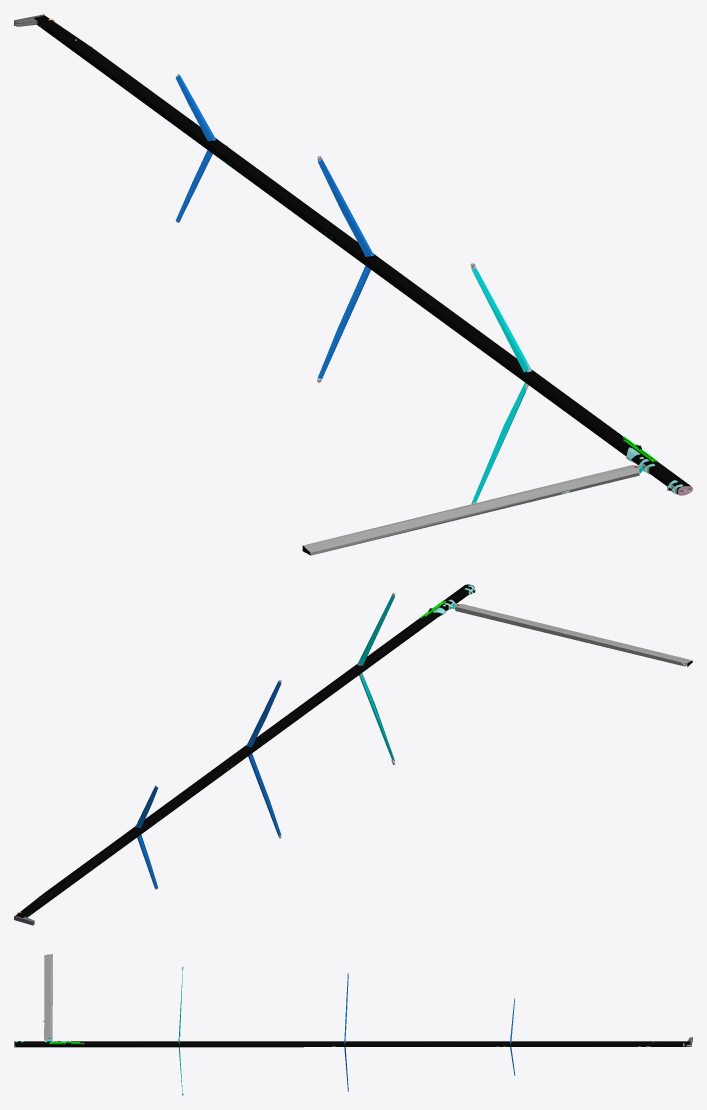
3 renders of one model, top to bottom at view 1: azimuth 30°, elevation 25°; view 2: azimuth 150°, elevation 25°; view 3: azimuth 270°, elevation 25°, orthographic. The views are drawn at different scales.
Visible parts, largest first — view 1: c0_0_0, c105_105_105, c1_62_241, c0_255_255; view 2: c0_0_0, c105_105_105, c1_62_241, c0_255_255; view 3: c0_0_0, c105_105_105, c1_62_241.
Part boxes in pixels (x1,y1,x2,y2): c0_0_0: (34,15,690,555); c105_105_105: (91,46,639,555); c1_62_241: (175,75,374,378); c0_255_255: (75,39,643,503); c0_0_0: (15,584,692,917); c105_105_105: (39,604,692,896); c1_62_241: (135,681,281,888); c0_255_255: (41,595,456,897); c0_0_0: (14,954,690,1047); c105_105_105: (44,954,678,1047); c1_62_241: (344,975,514,1090).
Bounding box in the file's own units: 7108 × 4674 × 22326.
